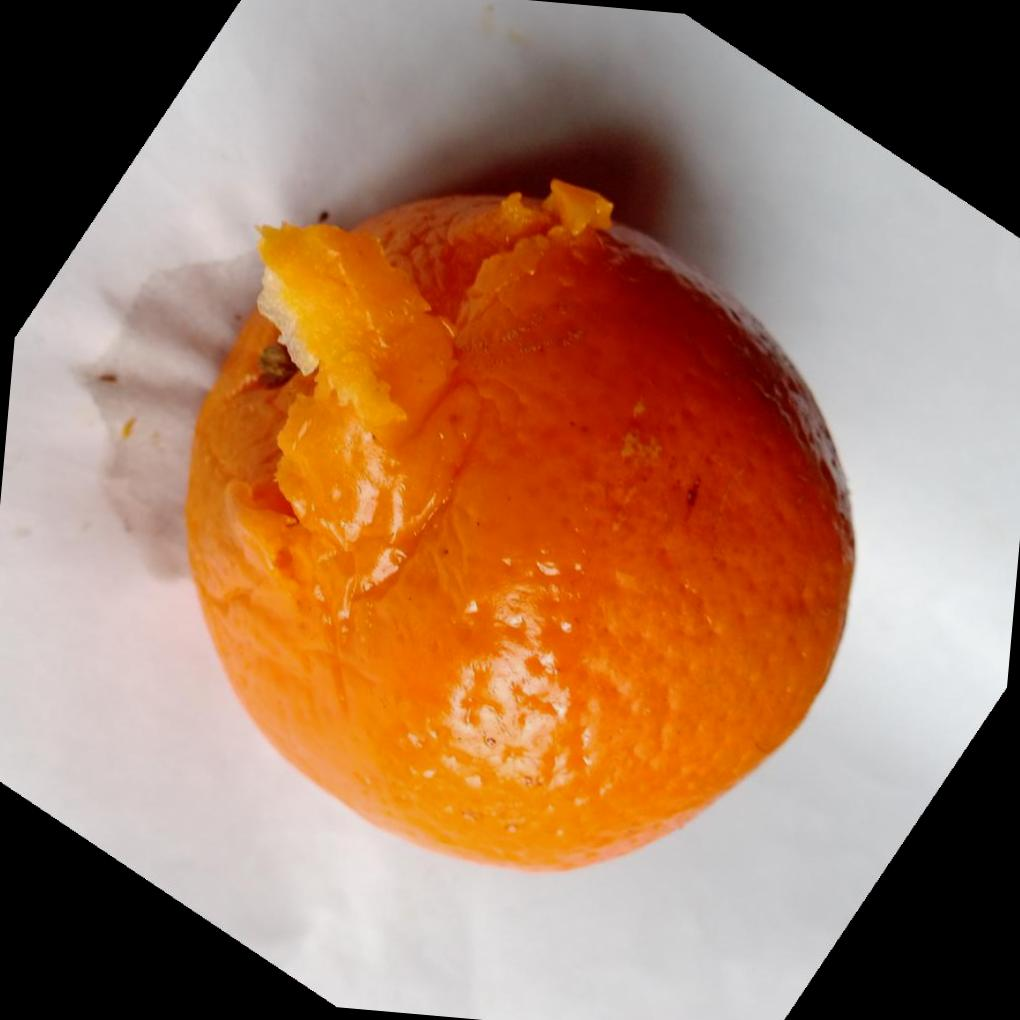FreshOrange: (177, 177, 854, 872)
